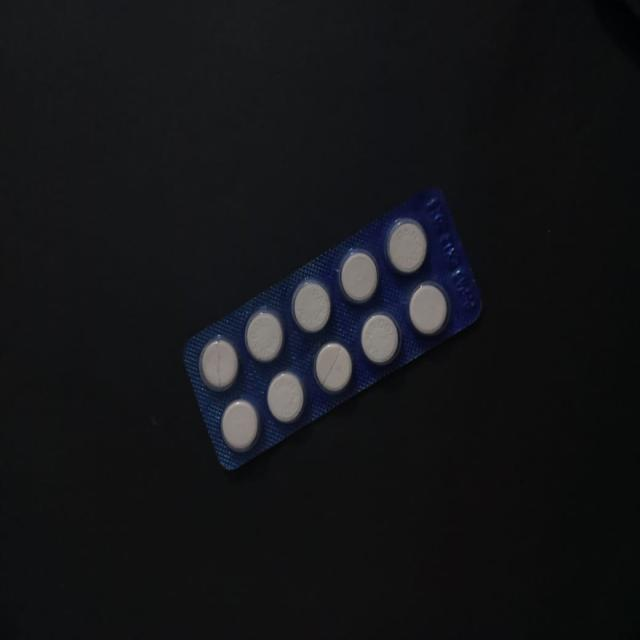defect: (196, 334, 242, 393), (313, 341, 355, 396)
